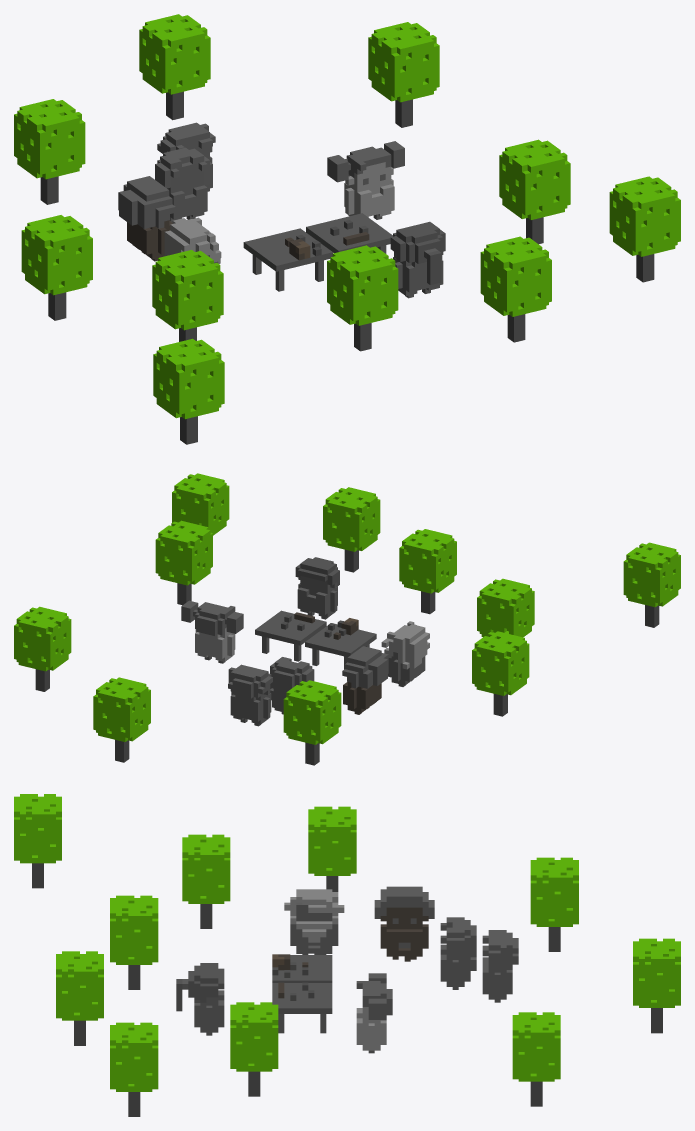
File: scene_orgy.obj
3 renders of one model, top to bottom at view 1: azimuth 30°, elevation 25°; view 2: azimuth 150°, elevation 25°; view 3: azimuth 270°, elevation 25°, orthographic. The views are drawn at different scales.
Size of the model in its own units: 98 by 15 by 111.
